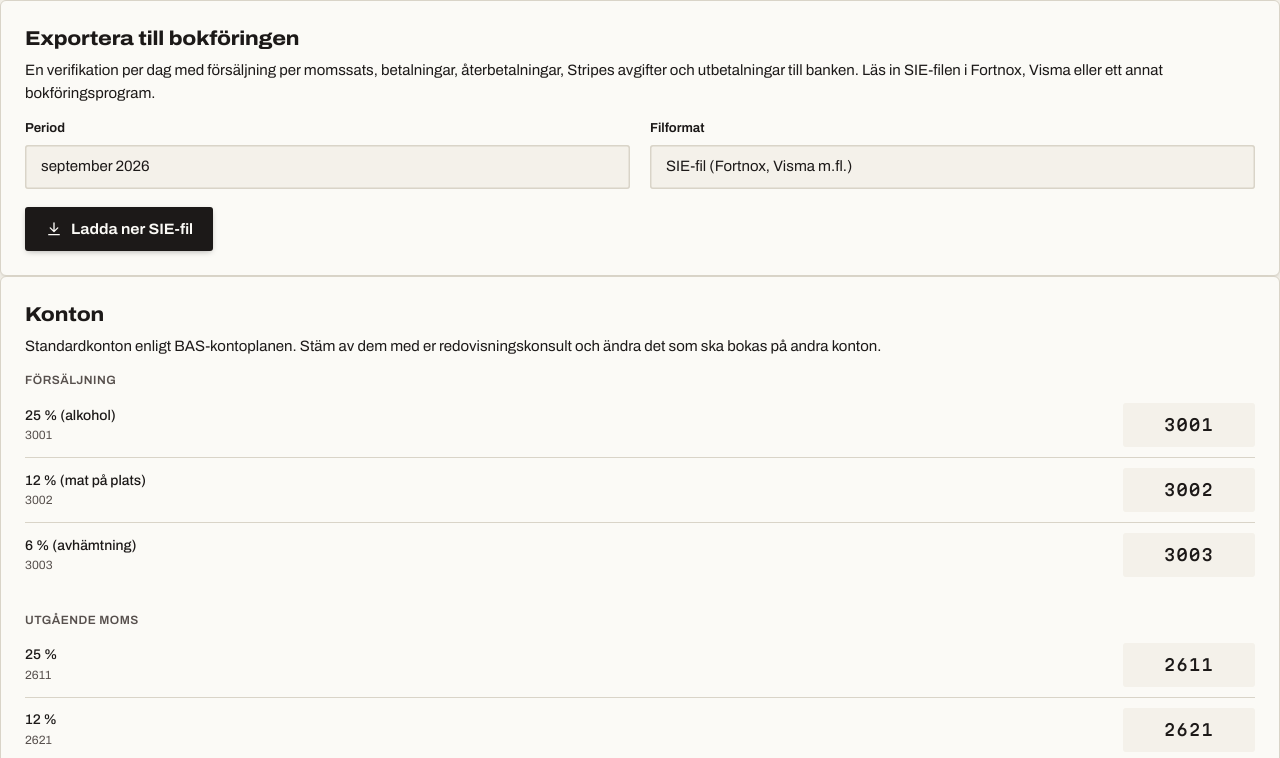
BokforingCard › downloads a month as a SIE file and shows the summary and warnings
The image size is (1280, 758).
Click the button "Ladda ner SIE-fil" at (119, 229), box [25,207,213,251]
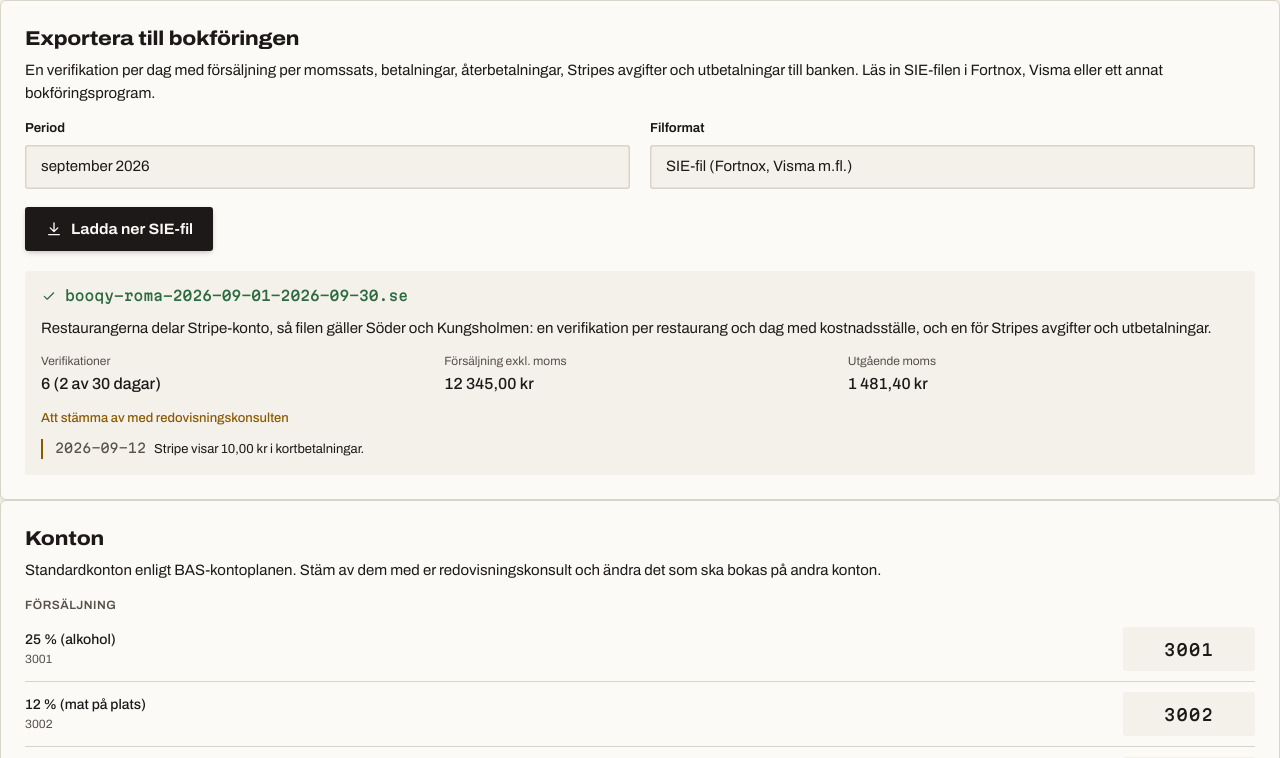
Expected: the text "12 345,00 kr" is shown, [444,375,534,392]
Expected: the list item "Stripe visar 10,00 kr i kortbetalningar." is shown, [154,442,364,456]
Expected: the text "filen gäller Söder och Kungsholmen" is shown, [41,317,1239,340]
